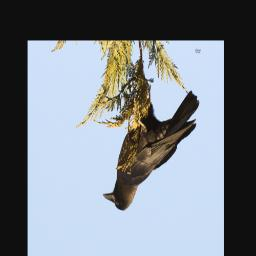Crow: (101, 85, 199, 215)
